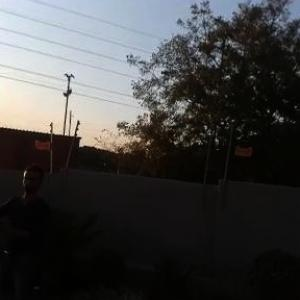follow: (0, 157, 55, 299)
